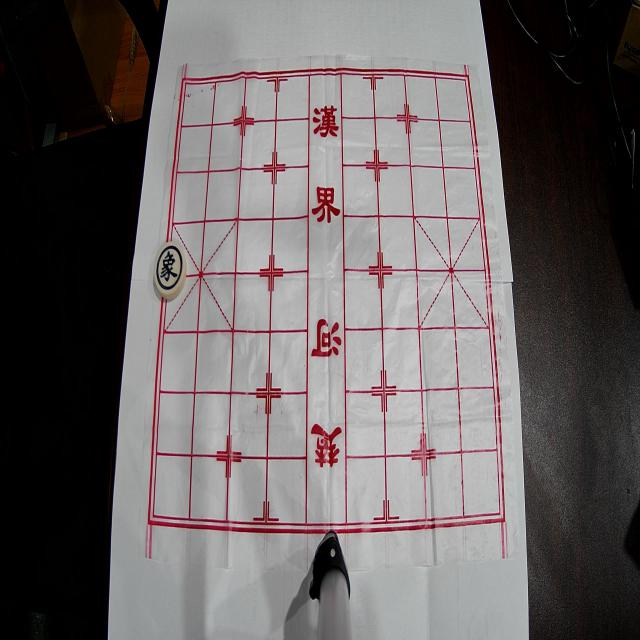black-elephant: (154, 242, 187, 300)
